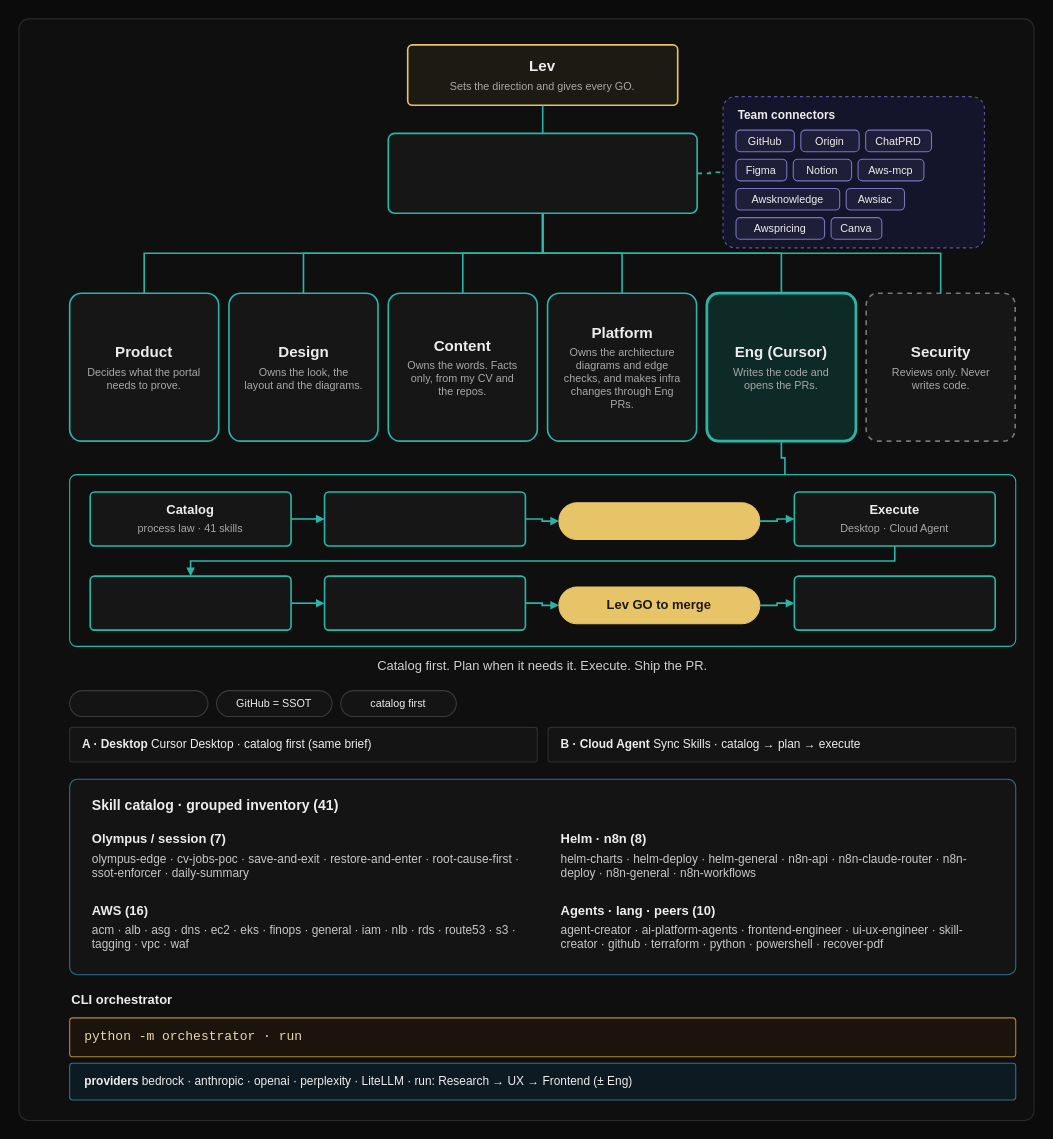
The diagram is 1053 pixels wide and 1139 high, and some of its shapes have lost their labels. Each missing label, with the box of its shape:
Grok Bot Runs the team day to day and brings me the decisions.: (387, 132, 697, 214)
Plan approved: (558, 502, 760, 539)
Plan when the ask needs it: (323, 491, 526, 546)
PR review: (89, 575, 291, 631)
Preview screenshots: (323, 575, 526, 631)
Ship: (793, 575, 996, 631)
skills = helpers: (69, 690, 208, 717)
